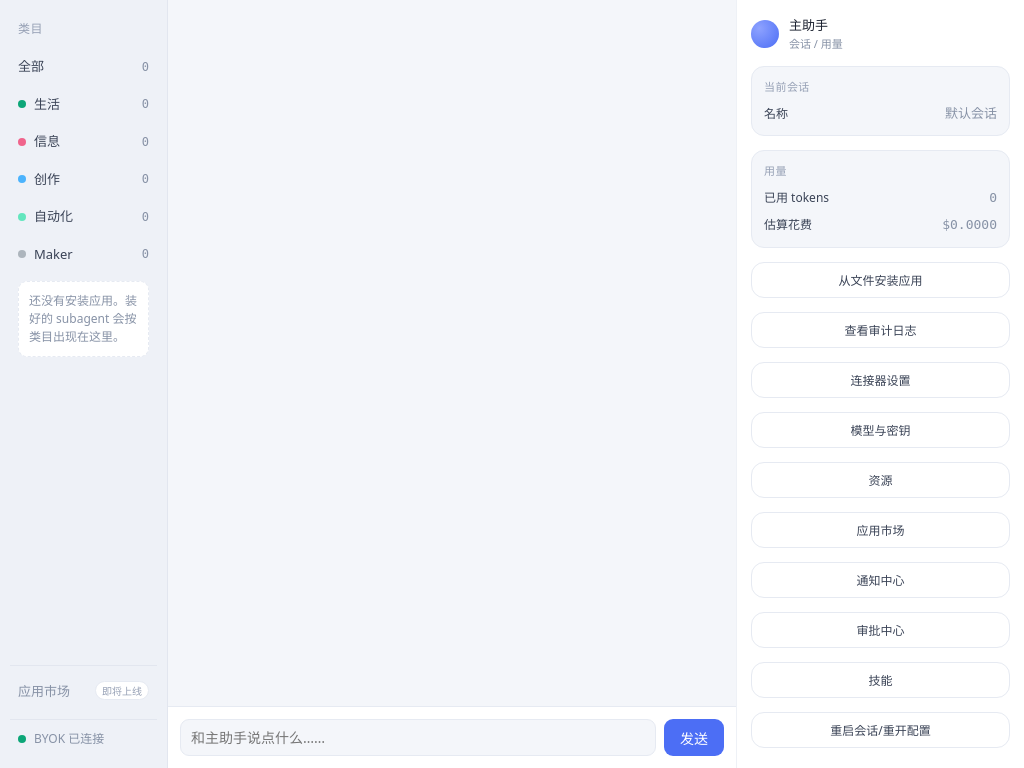
Test case: 点击「资源」入口切到资源面板
Click the button "资源" at (880, 480), box [751,462,1010,498]
(page scrolled)
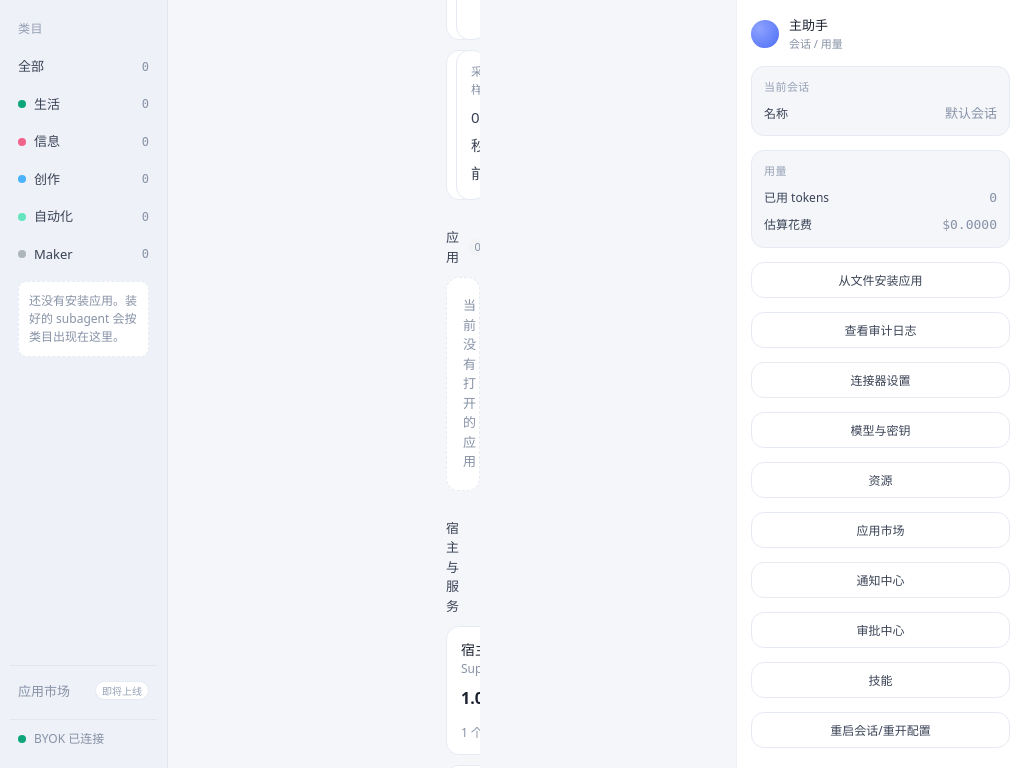
Expected: the text "当前没有打开的应用" is shown, [446,277,480,490]
